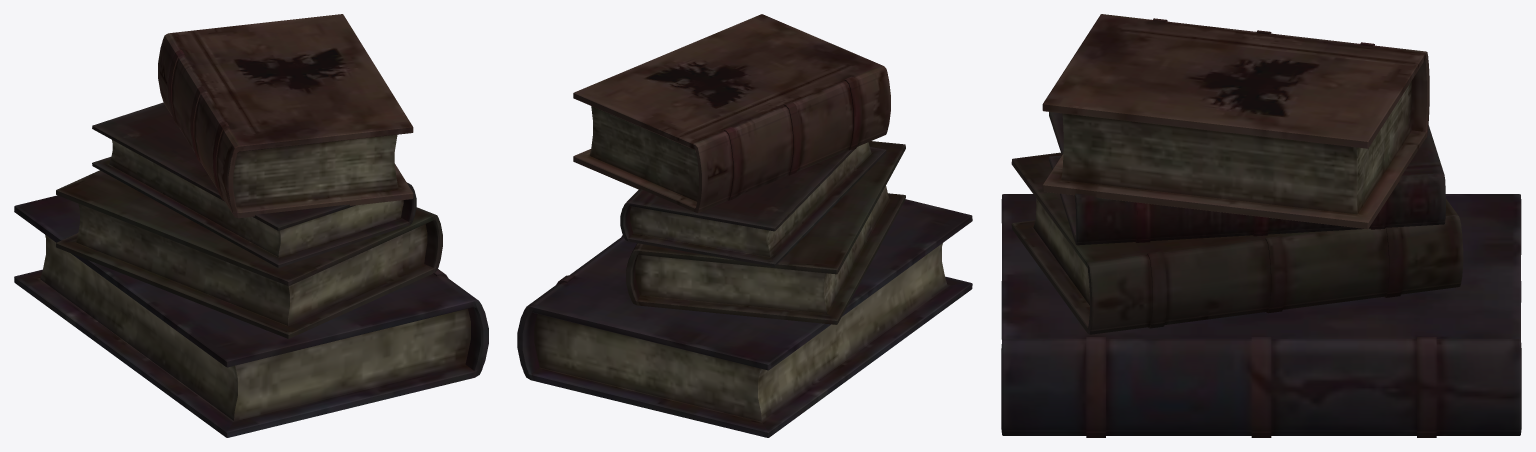
The model's file is books1.glb.
The picture shows the model from 3 angles, left to right: view 1: azimuth 30°, elevation 25°; view 2: azimuth 150°, elevation 25°; view 3: azimuth 270°, elevation 25°; orthographic projection. The views are drawn at different scales.
Visible parts, largest first — view 1: book1_low1_books_0; view 2: book1_low1_books_0; view 3: book1_low1_books_0.
Part boxes in pixels (box(x1,y1,x2,y2)): book1_low1_books_0: box(14, 14, 488, 437); book1_low1_books_0: box(517, 14, 972, 437); book1_low1_books_0: box(1001, 14, 1521, 437).
Size of the model in its own units: 31.39 by 26.96 by 41.25.
1 material, 1 textured.
